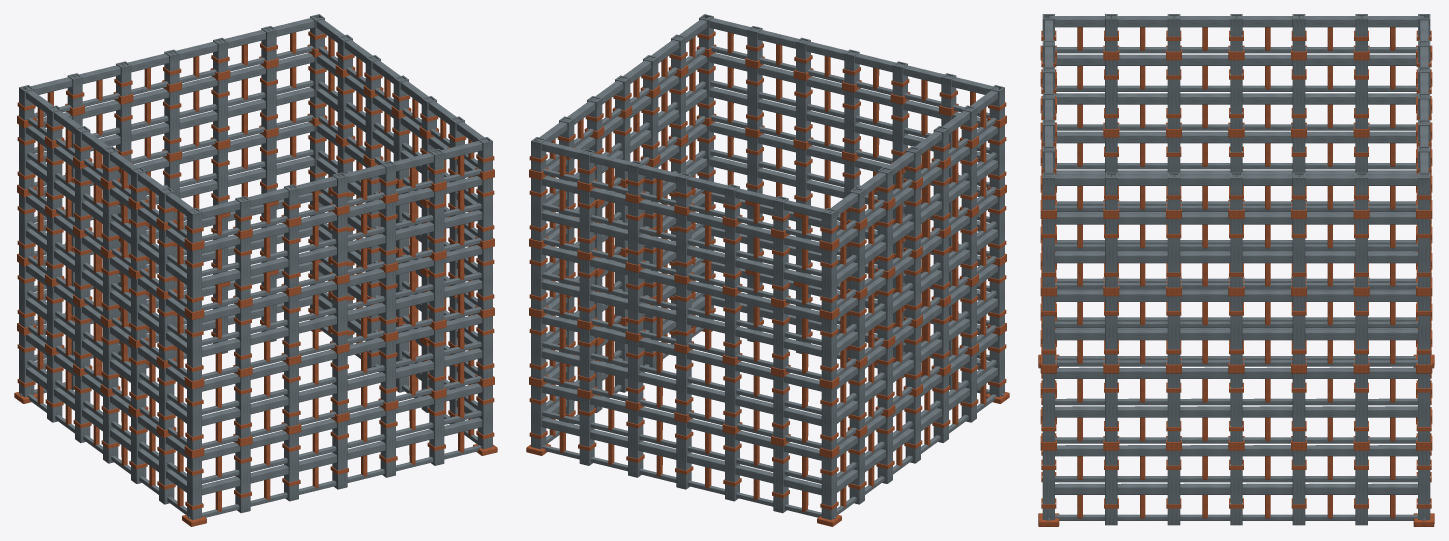
3 views of the same model, side by side, from view 1: azimuth 30°, elevation 25°; view 2: azimuth 150°, elevation 25°; view 3: azimuth 270°, elevation 25° (orthographic). The views are drawn at different scales.
Visible parts, largest first — view 1: Tier 0 side 0 post 1, Tier 0 side 0 post 5, Tier 0 side 0 post 3, Tier 0 side 0 post 4, Tier 0 side 0 post 0, Tier 2 side 0 post 0, Tier 3 side 0 post 0, Tier 1 side 0 post 0, Tier 0 side 0 post 2, Tier 3 side 0 post 3, Tier 0 side 1 post 0, Tier 1 side 0 post 3 (+49 smaller); view 2: Tier 0 side 3 post 0, Tier 2 side 3 post 0, Tier 3 side 3 post 0, Tier 1 side 3 post 0, Tier 0 side 2 post 1, Tier 0 side 2 post 5, Tier 0 side 2 post 3, Tier 0 side 2 post 2, Tier 0 side 2 post 4, Tier 3 side 2 post 3, Tier 0 side 2 post 0, Tier 1 side 2 post 3 (+49 smaller); view 3: Tier 0 side 1 post 2, Tier 0 side 1 post 4, Tier 0 side 1 post 1, Tier 0 side 1 post 3, Tier 0 side 1 post 5, Tier 3 side 3 post 2, Tier 3 side 3 post 4, Tier 1 side 1 post 2, Tier 1 side 1 post 4, Tier 3 side 1 post 2, Tier 3 side 1 post 4, Tier 2 side 1 post 2 (+103 smaller).
Boxes of the visible parts, x1,y1,x2,y2 form: Tier 0 side 0 post 1: (235,444,250,513); Tier 0 side 0 post 5: (429,397,444,465); Tier 0 side 0 post 3: (332,420,347,489); Tier 0 side 0 post 4: (380,409,395,477); Tier 0 side 0 post 0: (187,455,201,520); Tier 2 side 0 post 0: (187,317,201,381); Tier 3 side 0 post 0: (187,248,201,312); Tier 1 side 0 post 0: (187,386,201,450); Tier 0 side 0 post 2: (284,432,298,501); Tier 3 side 0 post 3: (332,213,347,276); Tier 0 side 1 post 0: (477,385,492,449); Tier 1 side 0 post 3: (332,351,347,414); Tier 0 side 3 post 0: (821,455,836,520); Tier 2 side 3 post 0: (821,317,836,381); Tier 3 side 3 post 0: (821,248,836,312); Tier 1 side 3 post 0: (821,386,836,450); Tier 0 side 2 post 1: (579,397,594,465); Tier 0 side 2 post 5: (773,444,788,513); Tier 0 side 2 post 3: (676,420,691,489); Tier 0 side 2 post 2: (628,409,643,477); Tier 0 side 2 post 4: (725,432,739,501); Tier 3 side 2 post 3: (676,213,691,276); Tier 0 side 2 post 0: (531,385,546,449); Tier 1 side 2 post 3: (676,351,691,414); Tier 0 side 1 post 2: (1167,450,1180,525); Tier 0 side 1 post 4: (1292,450,1305,525); Tier 0 side 1 post 1: (1105,450,1117,525); Tier 0 side 1 post 3: (1230,450,1242,525); Tier 0 side 1 post 5: (1355,450,1367,525); Tier 3 side 3 post 2: (1292,60,1305,128); Tier 3 side 3 post 4: (1167,60,1180,128); Tier 1 side 1 post 2: (1167,373,1180,441); Tier 1 side 1 post 4: (1292,373,1305,441); Tier 3 side 1 post 2: (1167,219,1180,287); Tier 3 side 1 post 4: (1292,219,1305,287); Tier 2 side 1 post 2: (1167,296,1180,364).
Bounding box in the file's own units: 2.85 × 2.76 × 2.85.
2 materials, 2 textured.
